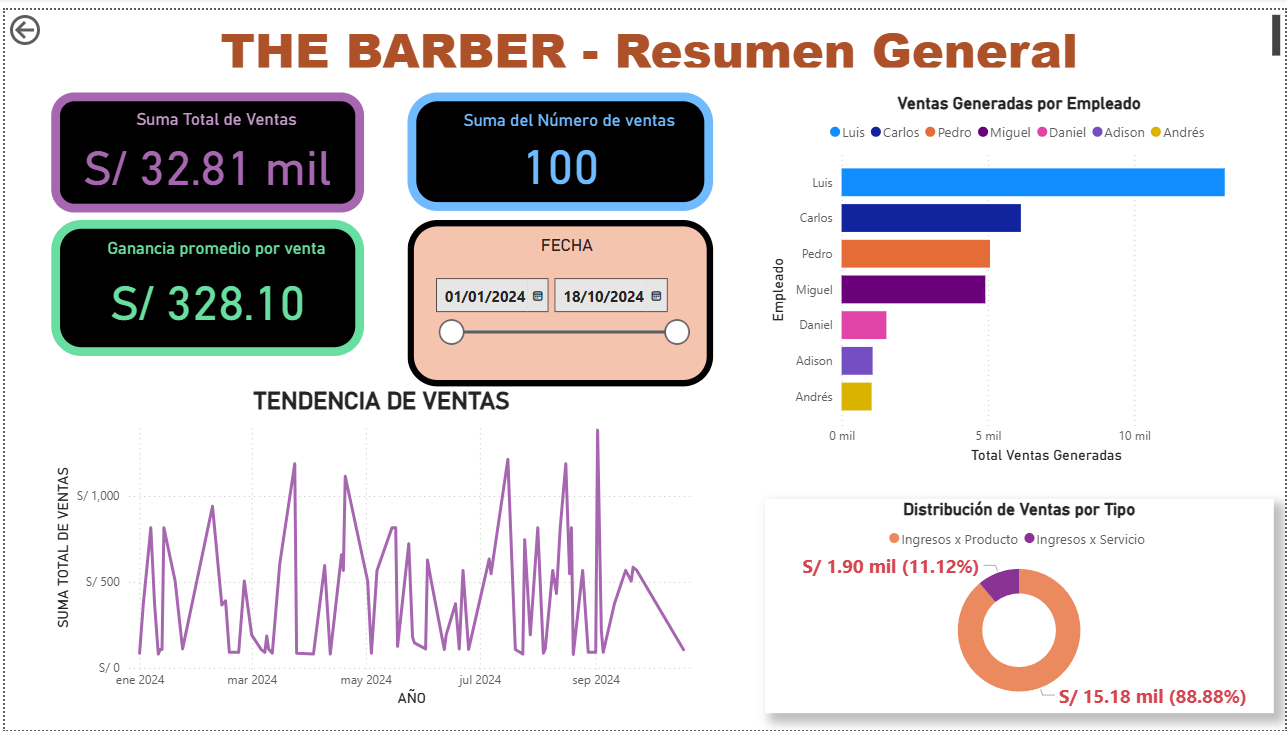

This screenshot's page, from the dashboard's own definition file:
{"tool":"powerbi","page":{"name":"RESUMEN GENERAL DE VENTAS","canvas":[1280,720],"ordinal":0},"visuals":[{"type":"card","title":"Suma Total de Ventas","fields":{"Values":["Sum(V_ResumenVentasPorFecha.MontoTotalVentas)"]},"box":[45.7,82.9,312.9,120],"z":0},{"type":"card","title":"Suma del Número de ventas","fields":{"Values":["Sum(V_ResumenVentasPorFecha.NumeroDeVentas)"]},"box":[402.9,82.9,305.7,118.6],"z":1000},{"type":"card","title":"Ganancia promedio por venta","fields":{"Values":["V_ResumenVentasPorFecha.Ganancia Promedio por Venta"]},"box":[45.7,210,312.9,135.7],"z":2000},{"type":"lineChart","title":"TENDENCIA DE VENTAS","fields":{"Category":["V_ResumenVentasPorFecha.FechaVenta.Variación.Jerarquía de fechas.Año","V_ResumenVentasPorFecha.FechaVenta.Variación.Jerarquía de fechas.Trimestre","V_ResumenVentasPorFecha.FechaVenta.Variación.Jerarquía de fechas.Mes","V_ResumenVentasPorFecha.FechaVenta.Variación.Jerarquía de fechas.Día"],"Y":["Sum(V_ResumenVentasPorFecha.MontoTotalVentas)"]},"box":[45.3,376.7,662.8,325.6],"z":3000},{"type":"donutChart","title":"Distribución de Ventas por Tipo","fields":{"Y":["Sum(V_ProductosMasVendidos.IngresosPorProducto)","Sum(V_ServiciosMasVendidos.IngresosPorServicio)"]},"box":[760,488.6,508.6,214.3],"z":4000},{"type":"barChart","title":"Ventas Generadas por Empleado","fields":{"Category":["V_VentasPorEmpleado.EmpleadoNombre"],"Y":["Sum(V_VentasPorEmpleado.MontoTotalVentasGeneradas)"],"Series":["V_VentasPorEmpleado.EmpleadoNombre"]},"box":[760,82.9,508.6,375.7],"z":5000},{"type":"slicer","title":"FECHA","fields":{"Values":["V_ResumenVentasPorFecha.FechaVenta"]},"box":[402.3,210.5,305.8,158.1],"z":6000},{"type":"textbox","box":[0,0,1280,62.9],"z":7000},{"type":"actionButton","box":[0,0,100,40],"z":8000}]}

Visuals, with their boxes in screenshot pixels (x1, y1, x2, y2), scaled from the page's 1280x720 canvas onto the 1287x731 screenshot:
"Suma Total de Ventas" card: 46/84/361/206
"Suma del Número de ventas" card: 405/84/712/205
"Ganancia promedio por venta" card: 46/213/361/351
"TENDENCIA DE VENTAS" lineChart: 46/382/712/713
"Distribución de Ventas por Tipo" donutChart: 764/496/1276/714
"Ventas Generadas por Empleado" barChart: 764/84/1276/466
"FECHA" slicer: 405/214/712/374
textbox: 0/0/1286/64
actionButton: 0/0/101/41
